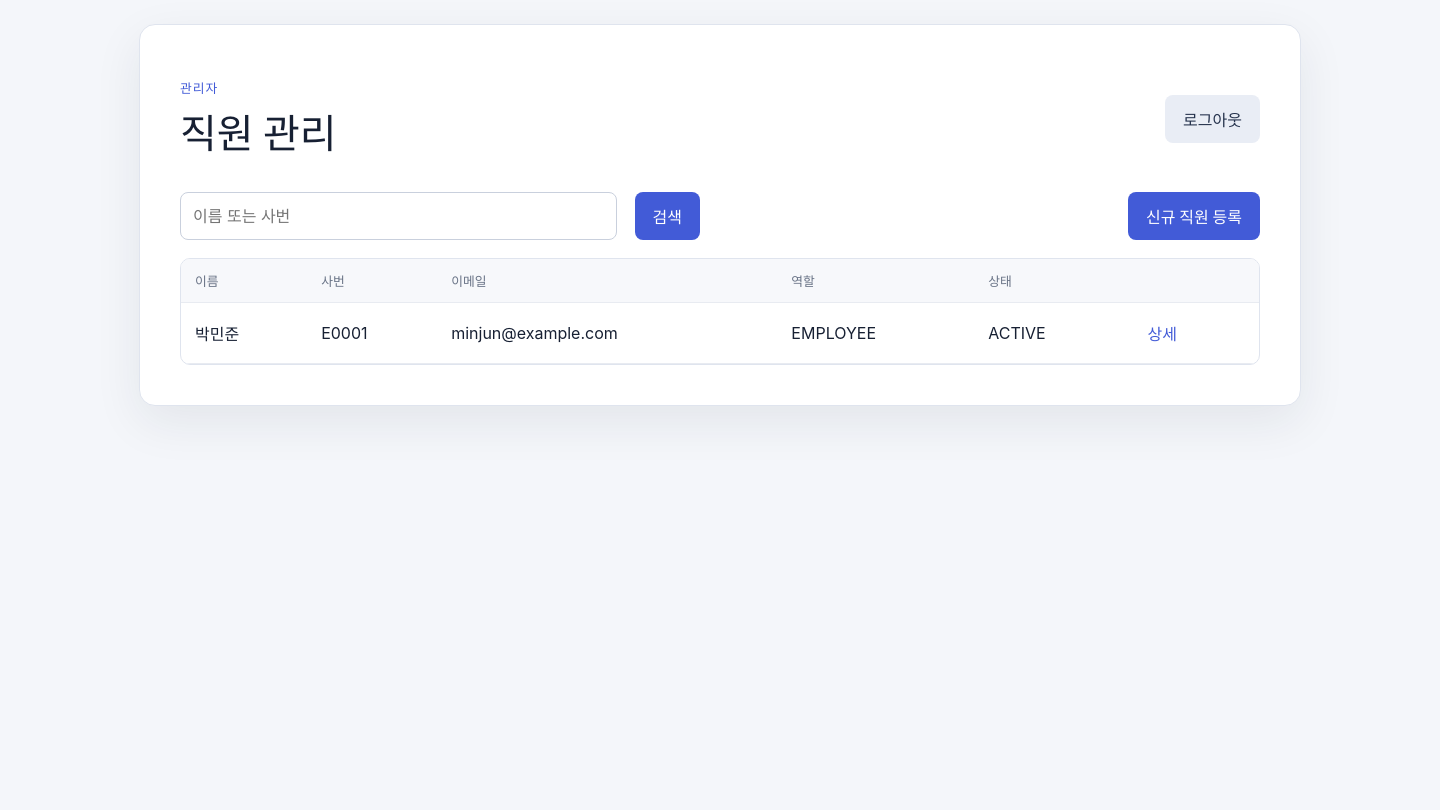
Test: 관리자는 확인 후 직원을 퇴사 처리하고 상태를 확인한다
Expected: the text "박민준" is shown, left=181, top=302, right=307, bottom=363
What coordinates should you click on to do the following:
click the button "상세"
I would click on:
 (1162, 333)
Its box is left=1138, top=315, right=1187, bottom=351.
(page scrolled)
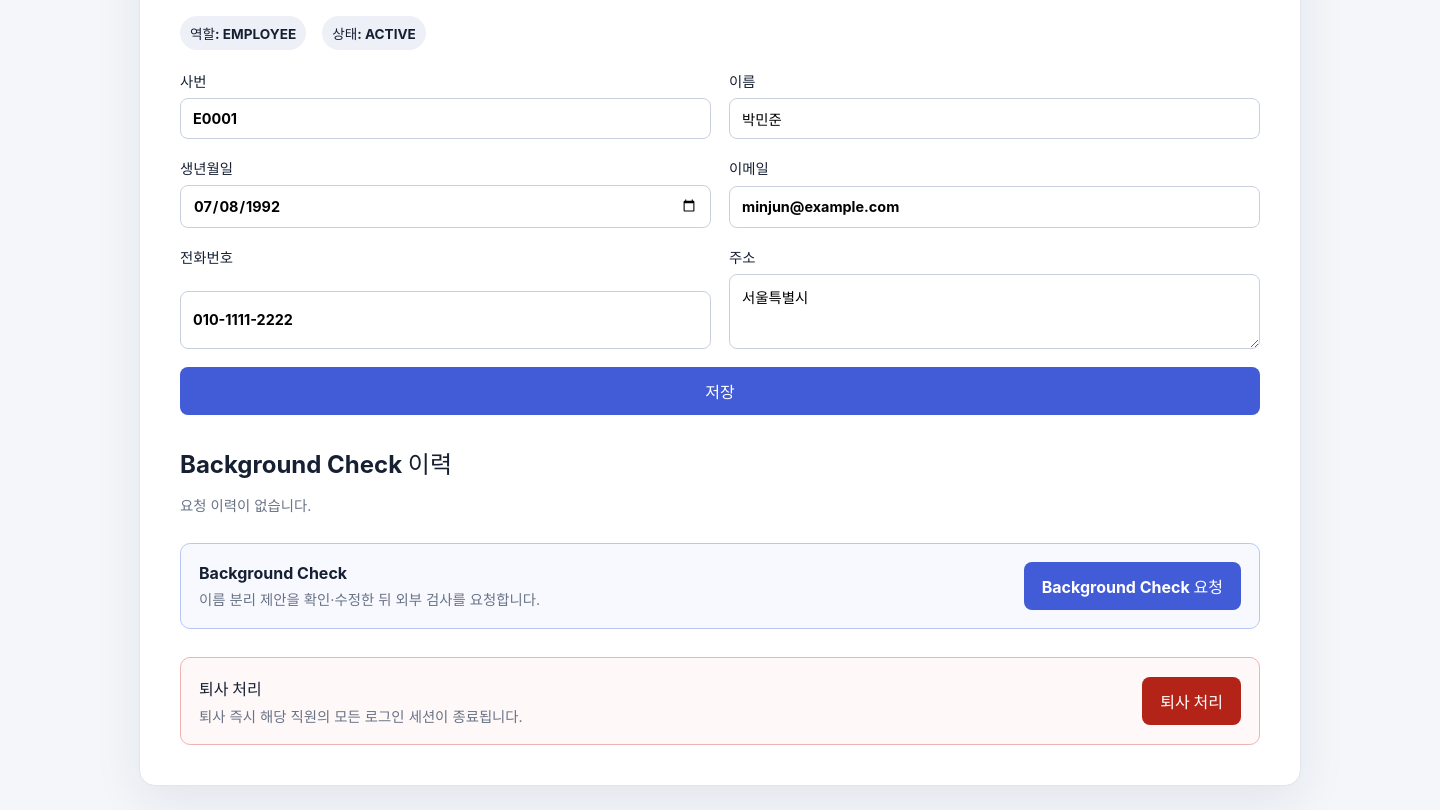
Expected: the text "요청 이력이 없습니다." is shown, left=180, top=497, right=311, bottom=514
What coordinates should you click on to do the following:
click the button "퇴사 처리"
I would click on:
 (1192, 701)
Its box is left=1142, top=677, right=1241, bottom=725.
(page scrolled)
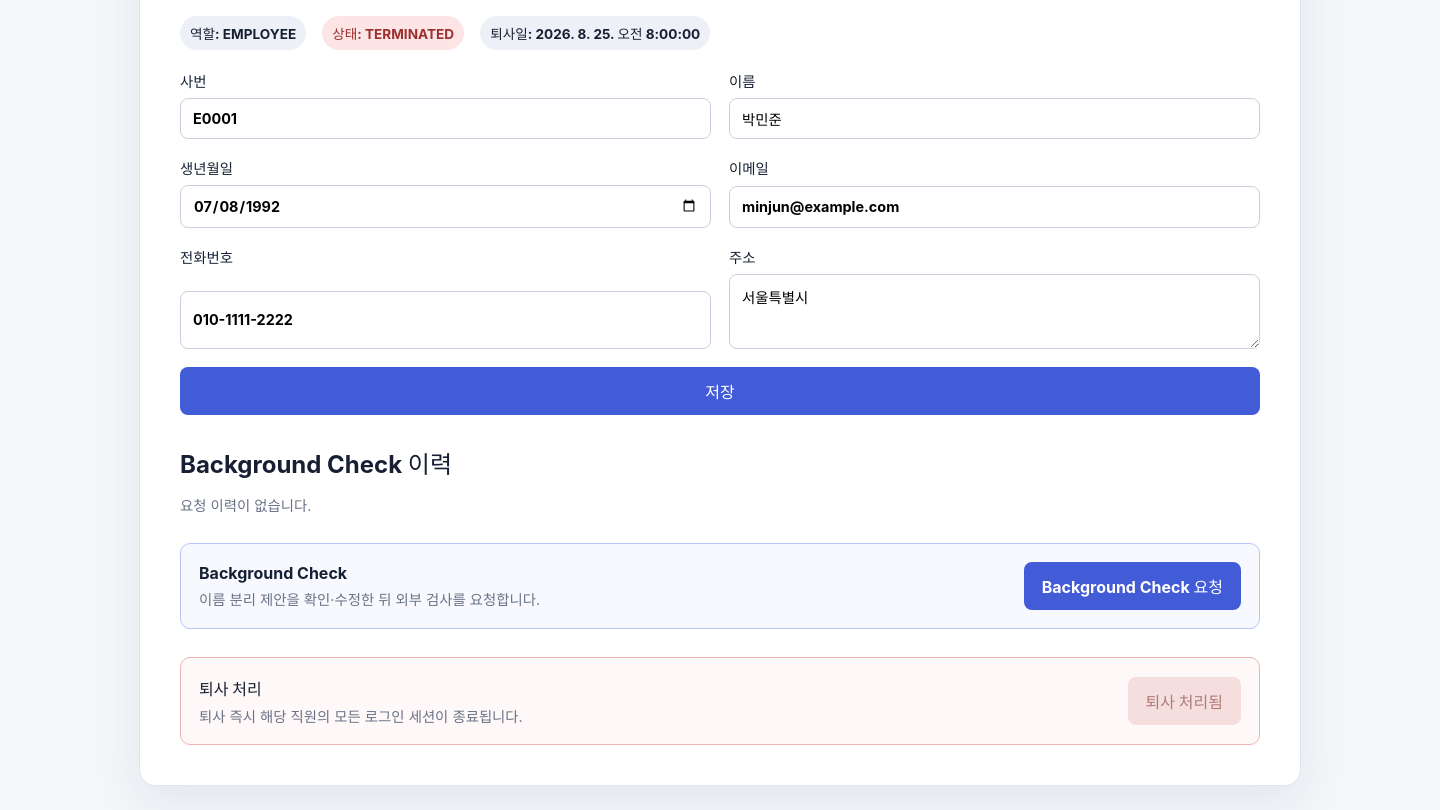
Expected: the text "상태: TERMINATED" is shown, left=322, top=16, right=464, bottom=50
Expected: the button "퇴사 처리됨" is disabled, left=1128, top=677, right=1241, bottom=725
